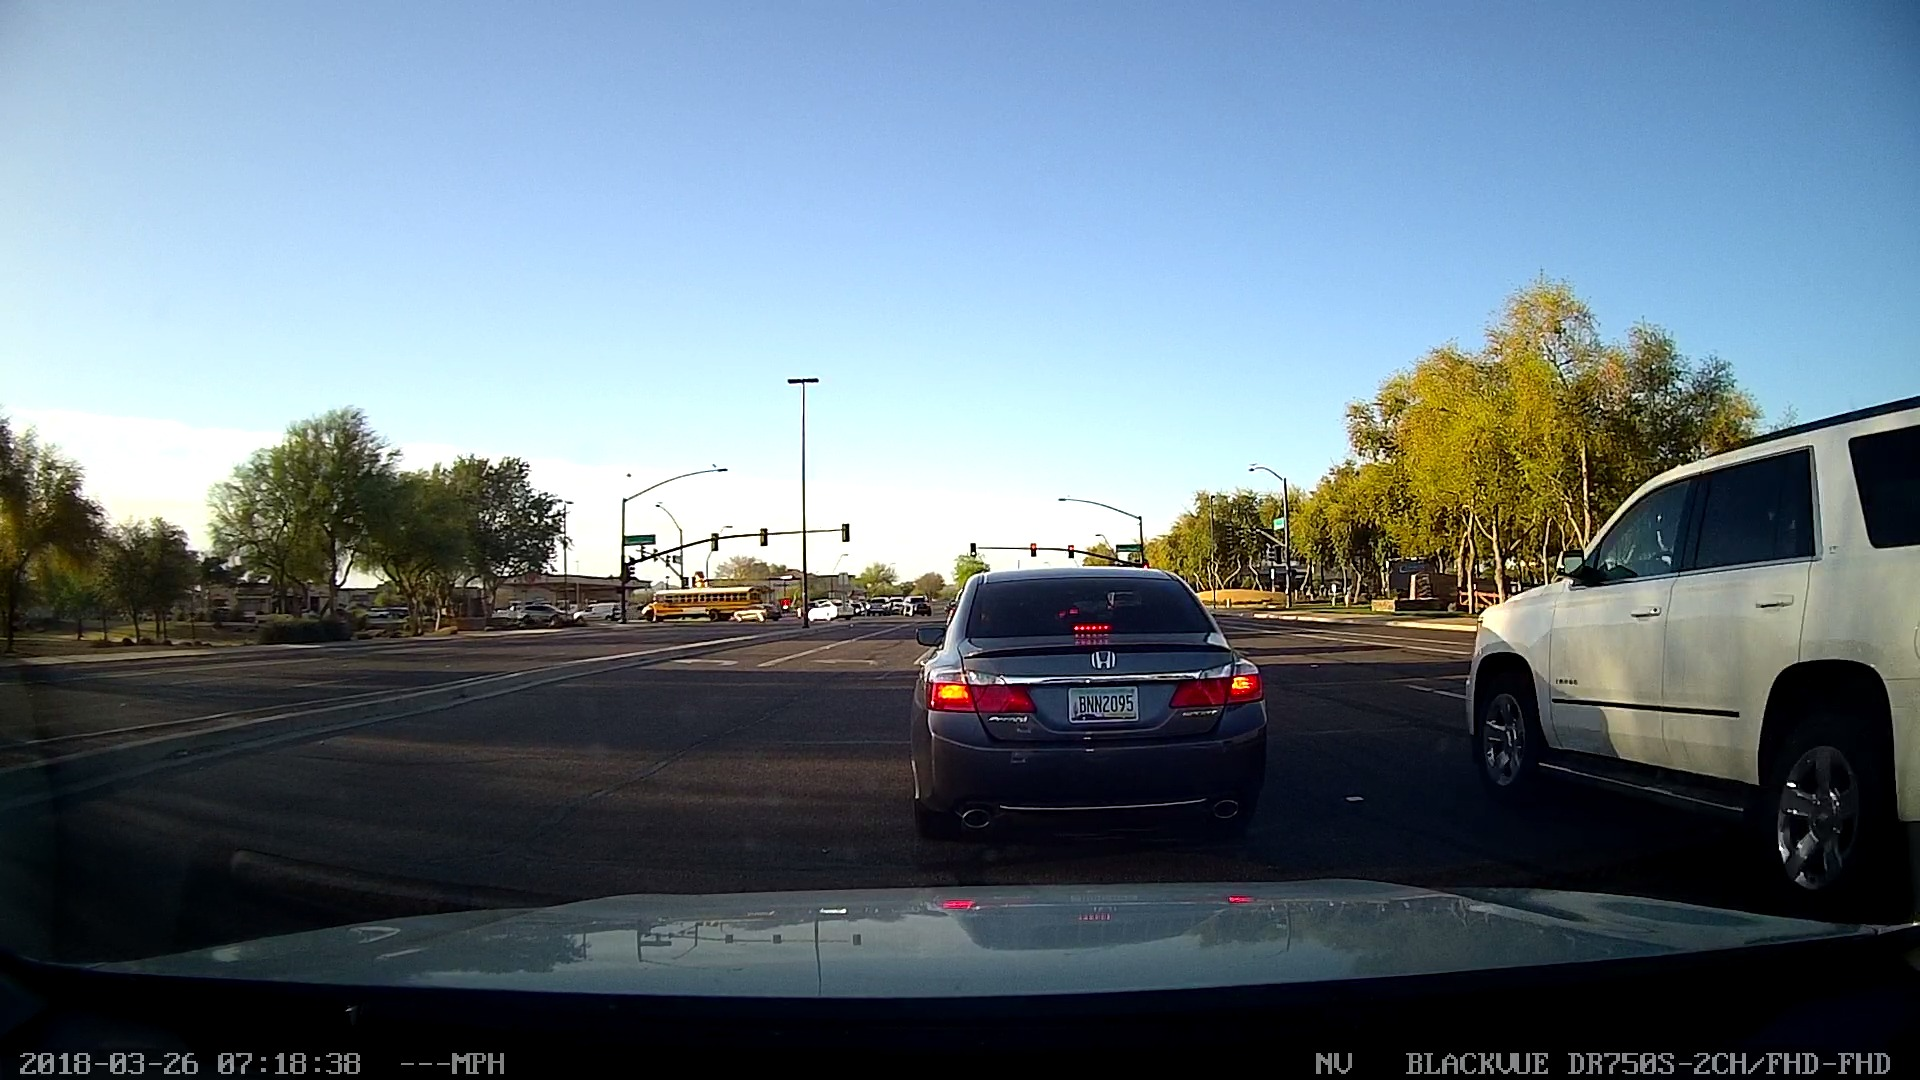vehicle: (1457, 384, 1920, 934), (899, 545, 1284, 828), (1062, 674, 1142, 735)
